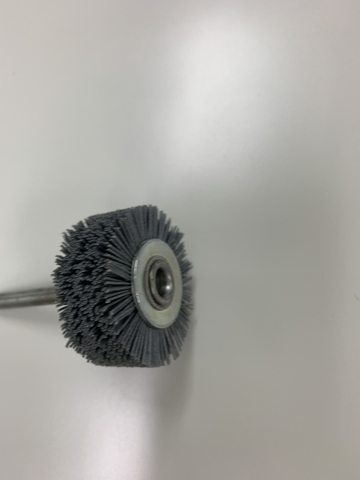Wheel Brush: (6, 205, 191, 365), (1, 214, 182, 358)
